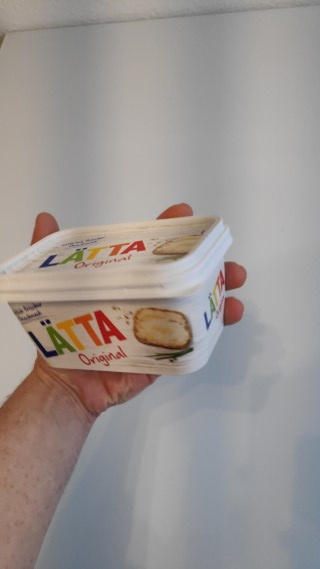laetta: (1, 212, 235, 377)
